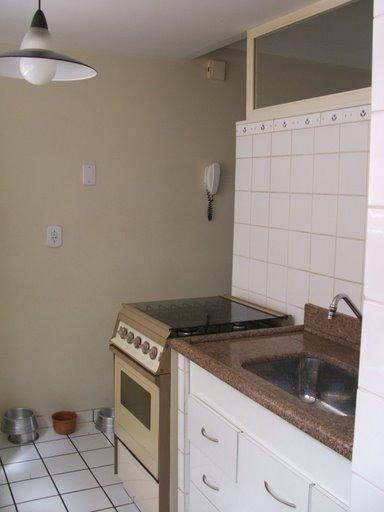Electrodomestico: (108, 298, 169, 507)
Lavaplatos: (230, 276, 356, 429)
Otro Obstaculo: (7, 407, 40, 447), (54, 404, 83, 440), (93, 399, 118, 431)
